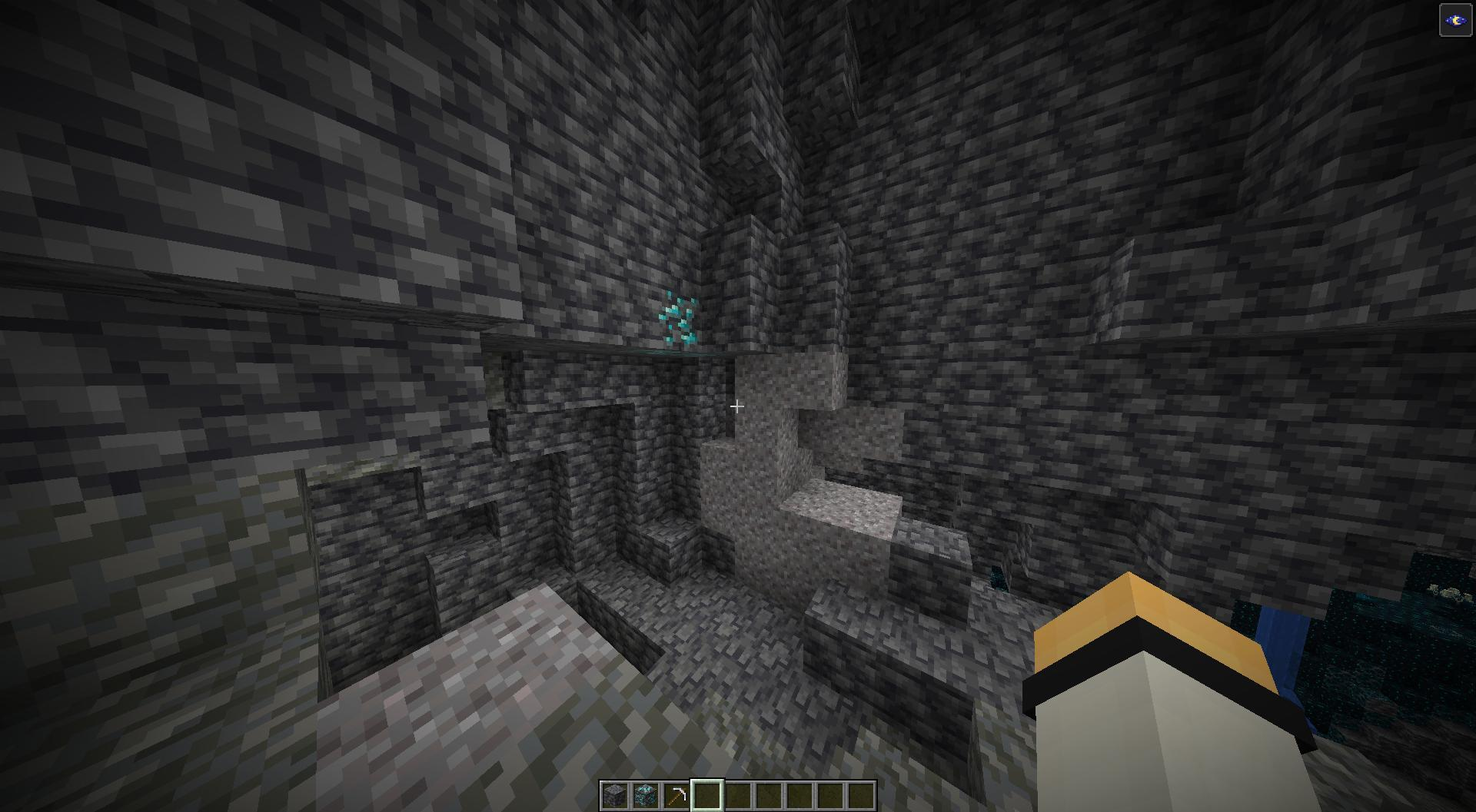diamond ore: (657, 289, 701, 352)
